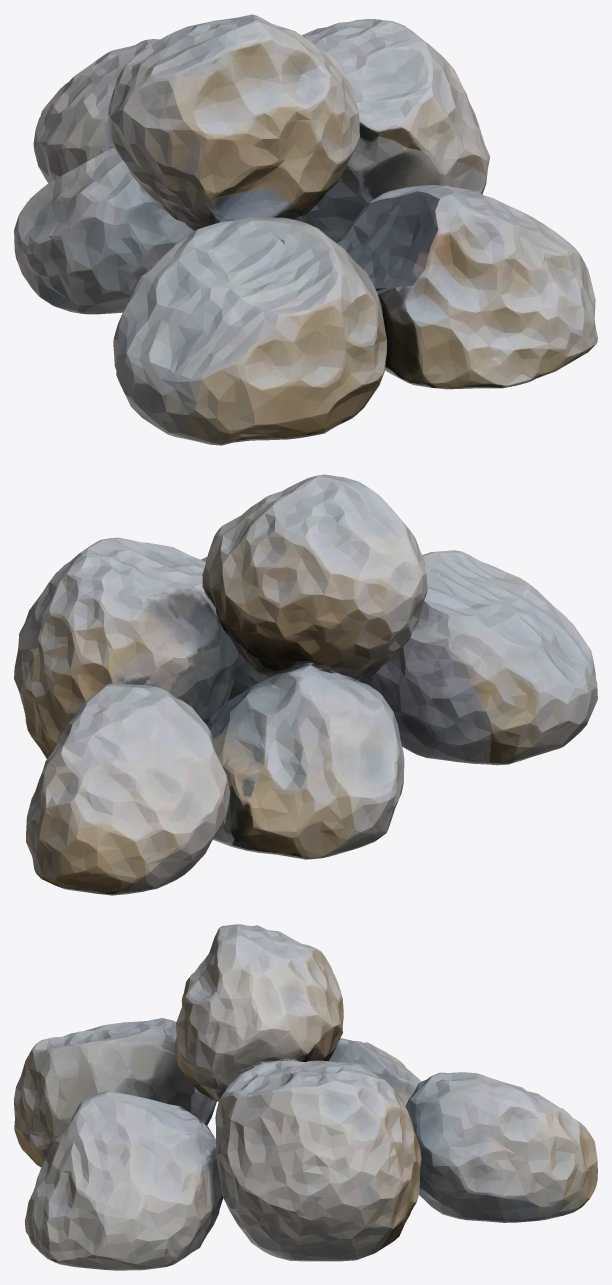
The model's file is stone_pile.glb.
3 renders of one model, top to bottom at view 1: azimuth 30°, elevation 25°; view 2: azimuth 150°, elevation 25°; view 3: azimuth 270°, elevation 25°, orthographic. The views are drawn at different scales.
Size of the model in its own units: 1.47 by 0.9026 by 1.97.
Materials: 1 (1 with a texture image).
